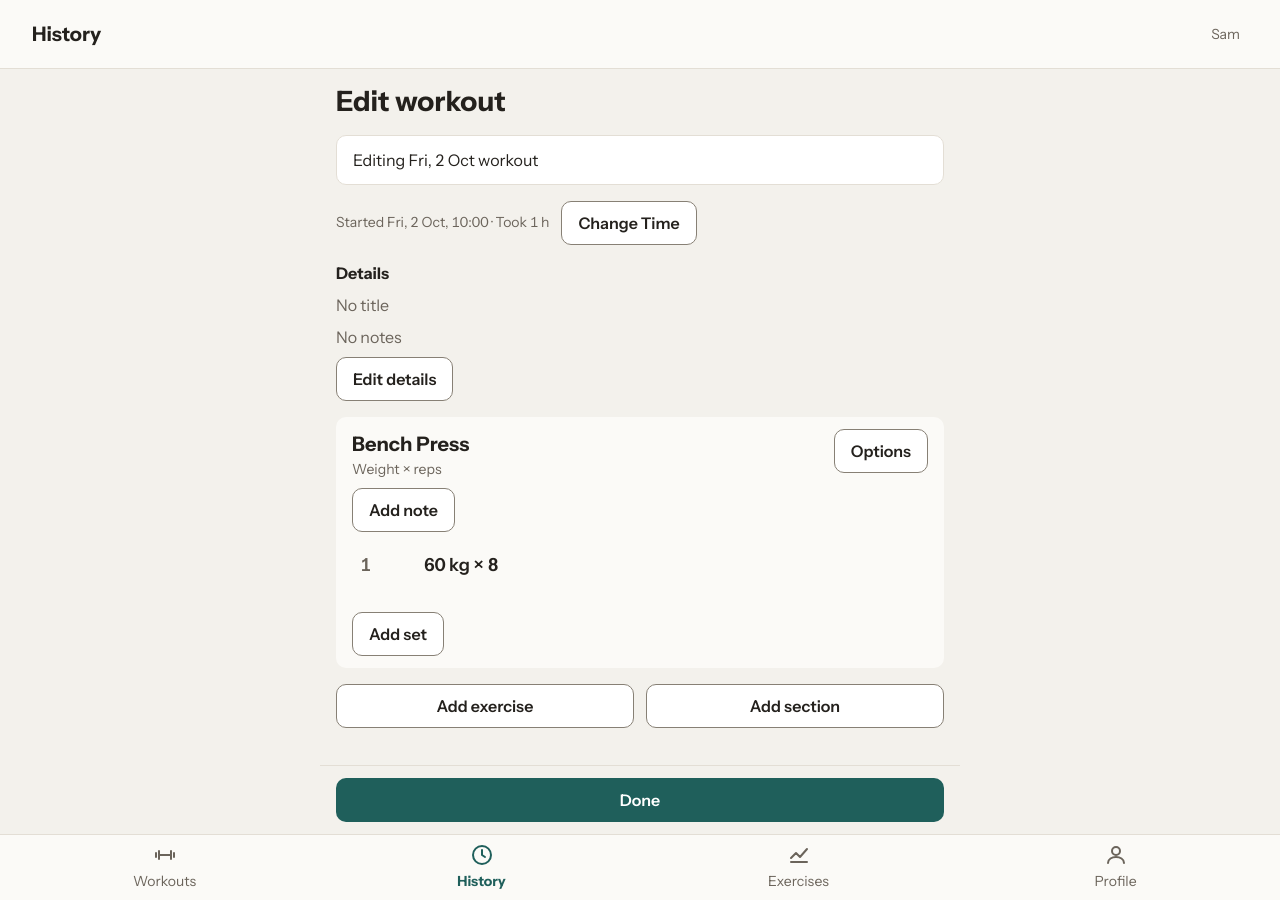
Test: 18.0 AC9 — add an exercise › offline: the banner shows the offline copy with no Try again
Check: the heading "Edit workout" is shown, box [336,84,506,118]
Click the button "Add exercise": [485, 706] box [336,684,634,728]
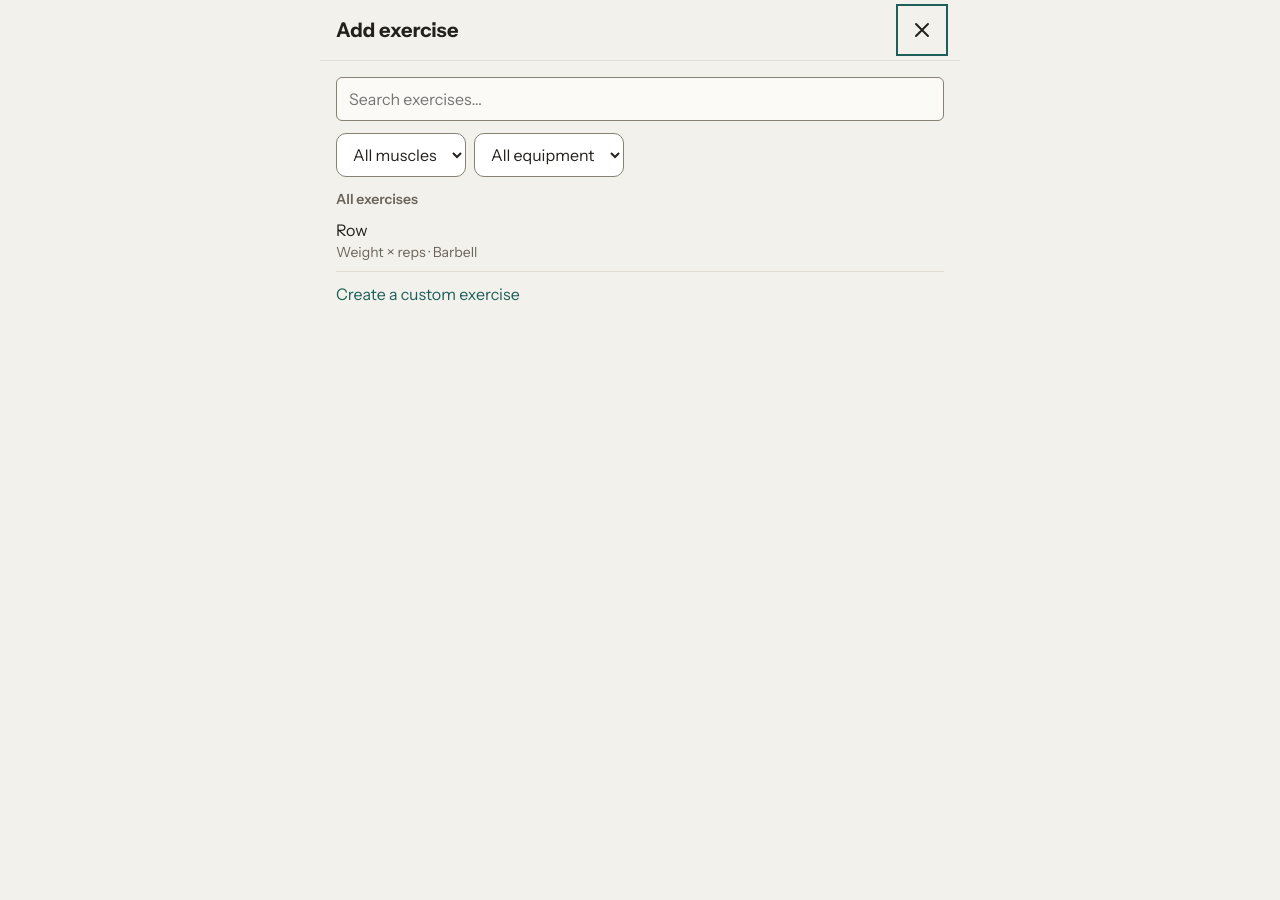
Click the button "Row Weight × reps · Barbell": [352, 230] box [336,210,944,272]
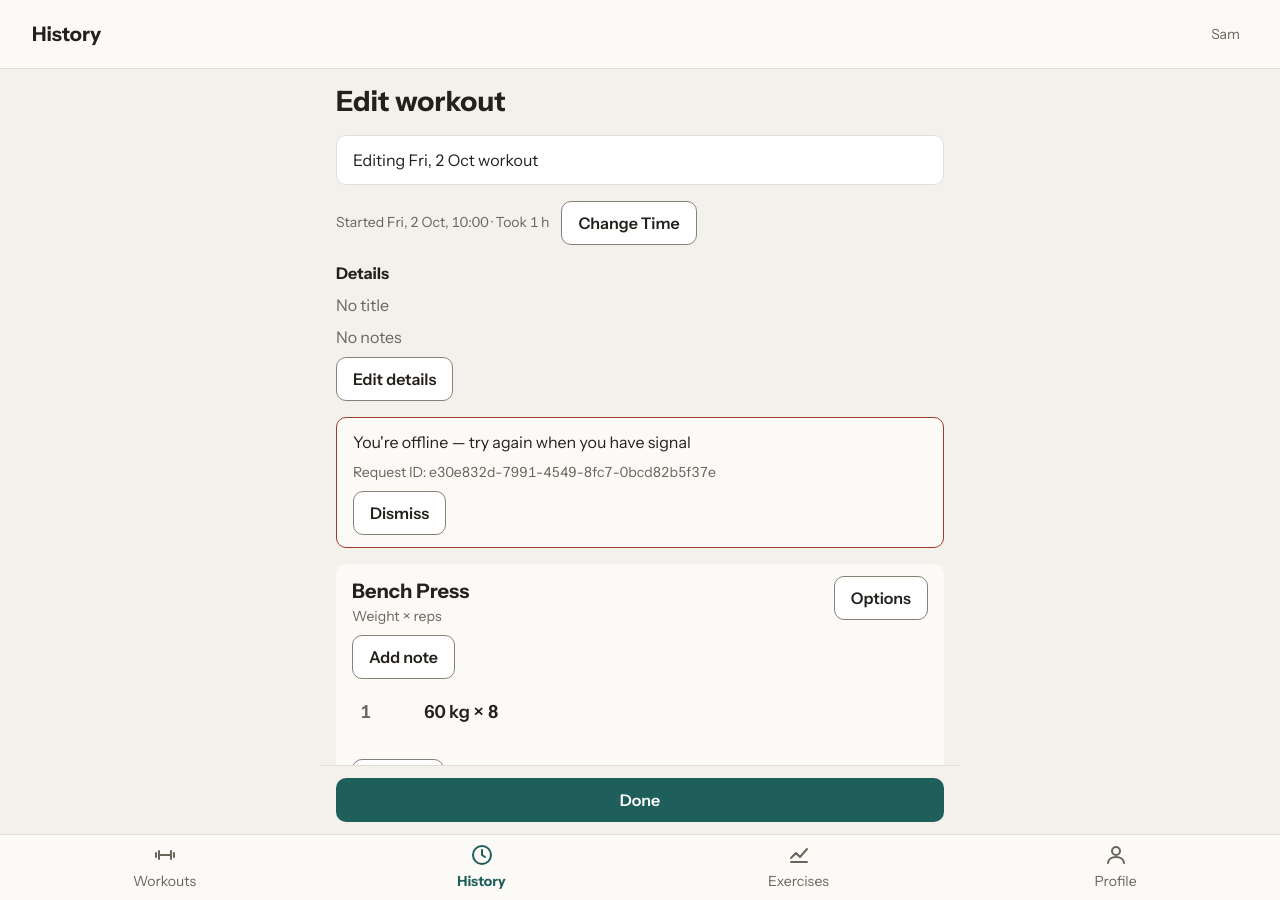
Check: the text "You're offline — try again when you have signal" is shown, box [353,430,691,454]
